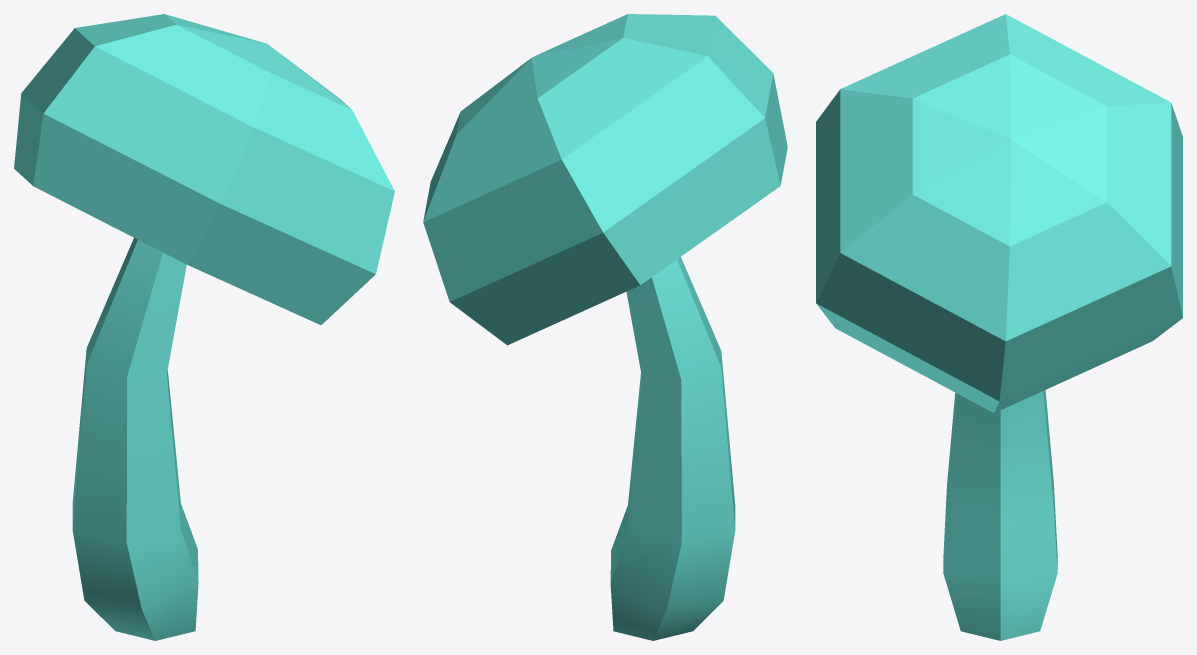
The model's file is Mushroom_1.fbx.
The picture shows the model from 3 angles, left to right: view 1: azimuth 30°, elevation 25°; view 2: azimuth 150°, elevation 25°; view 3: azimuth 270°, elevation 25°; orthographic projection.
Parts seen in each view (by area): view 1: Mushroom_1; view 2: Mushroom_1; view 3: Mushroom_1.
Boxes of the visible parts, box(x1,y1,x2,y2) form: Mushroom_1: box(14, 14, 394, 640); Mushroom_1: box(423, 14, 787, 640); Mushroom_1: box(816, 14, 1182, 640).
Size of the model in its own units: 5.1 by 8.23 by 4.72.
